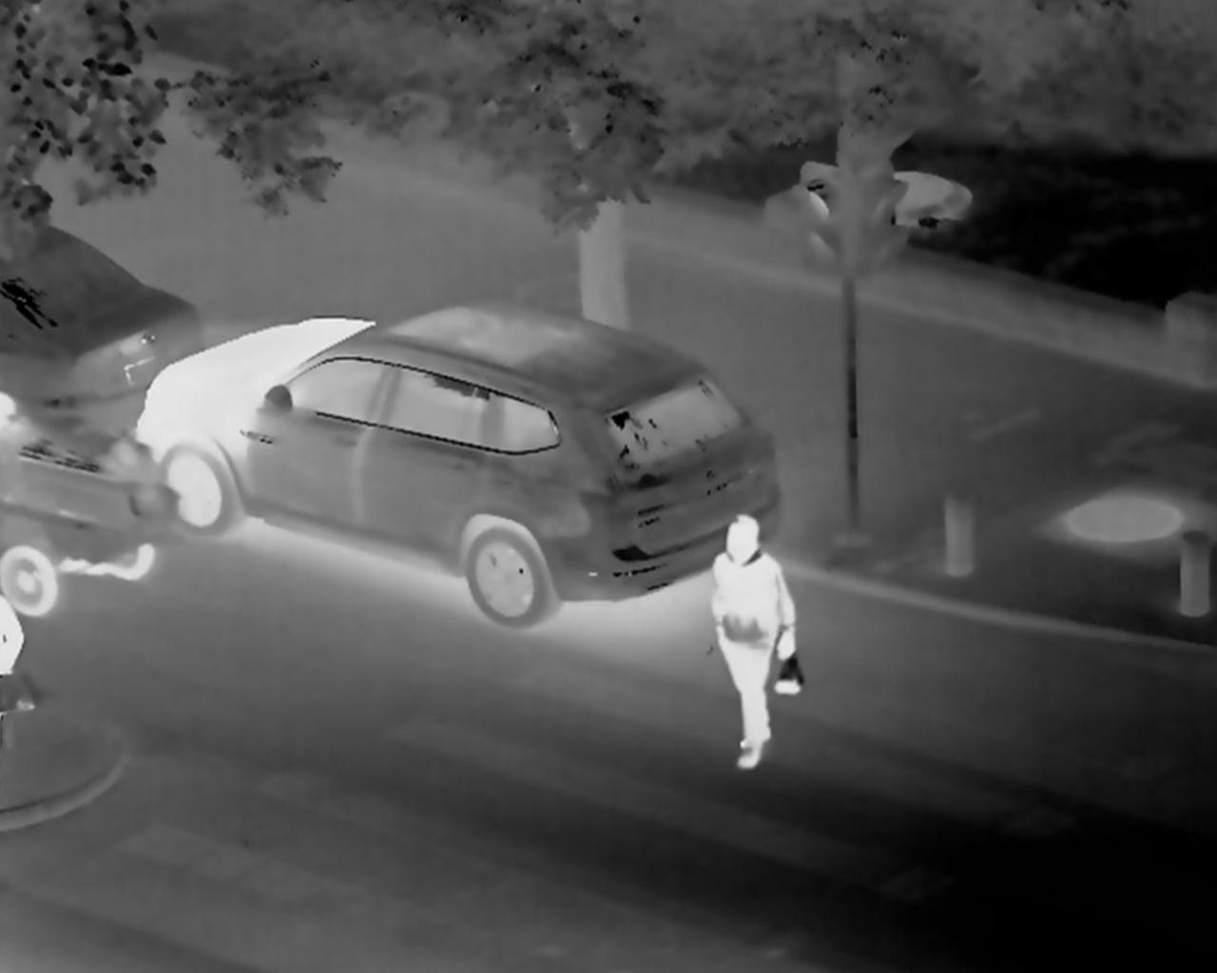person: (688, 523, 839, 806)
